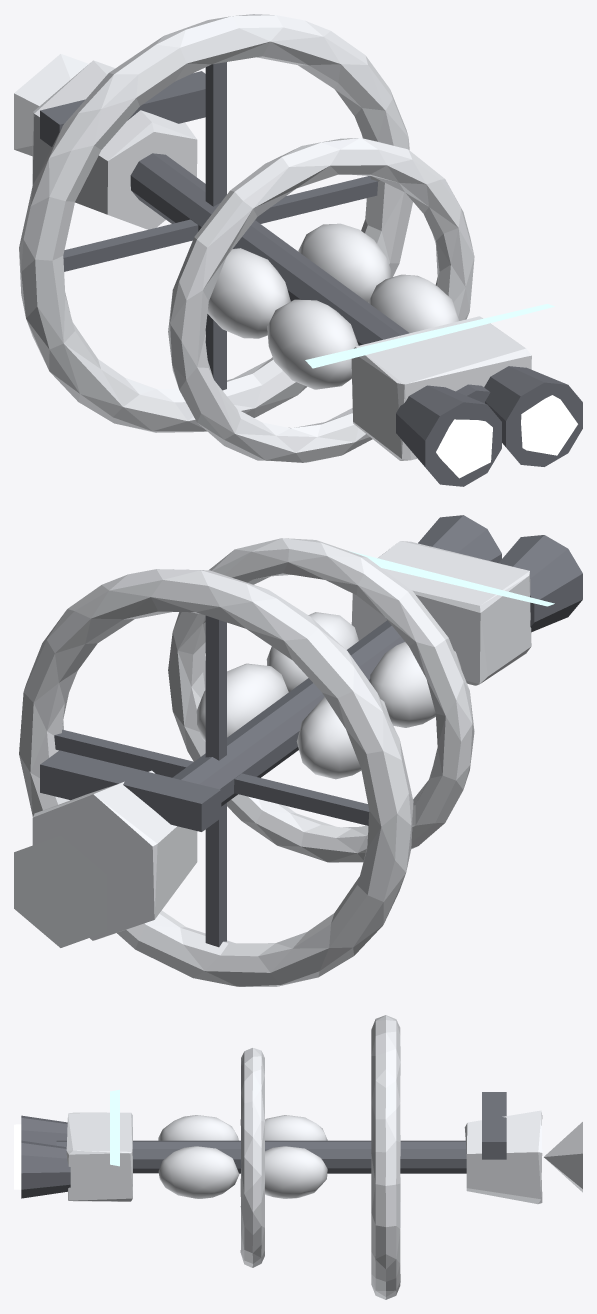
Rendered from nave_psl.glb.
The picture shows the model from 3 angles, top to bottom: view 1: azimuth 30°, elevation 25°; view 2: azimuth 150°, elevation 25°; view 3: azimuth 270°, elevation 25°; orthographic projection. The views are drawn at different scales.
Visible parts, largest first — view 1: nave_psl; view 2: nave_psl; view 3: nave_psl.
Boxes of the visible parts, x1,y1,x2,y2 form: nave_psl: (14,14,582,486); nave_psl: (14,515,582,986); nave_psl: (14,1015,582,1299).
Size of the model in its own units: 0.5791 by 0.5788 by 1.15.
